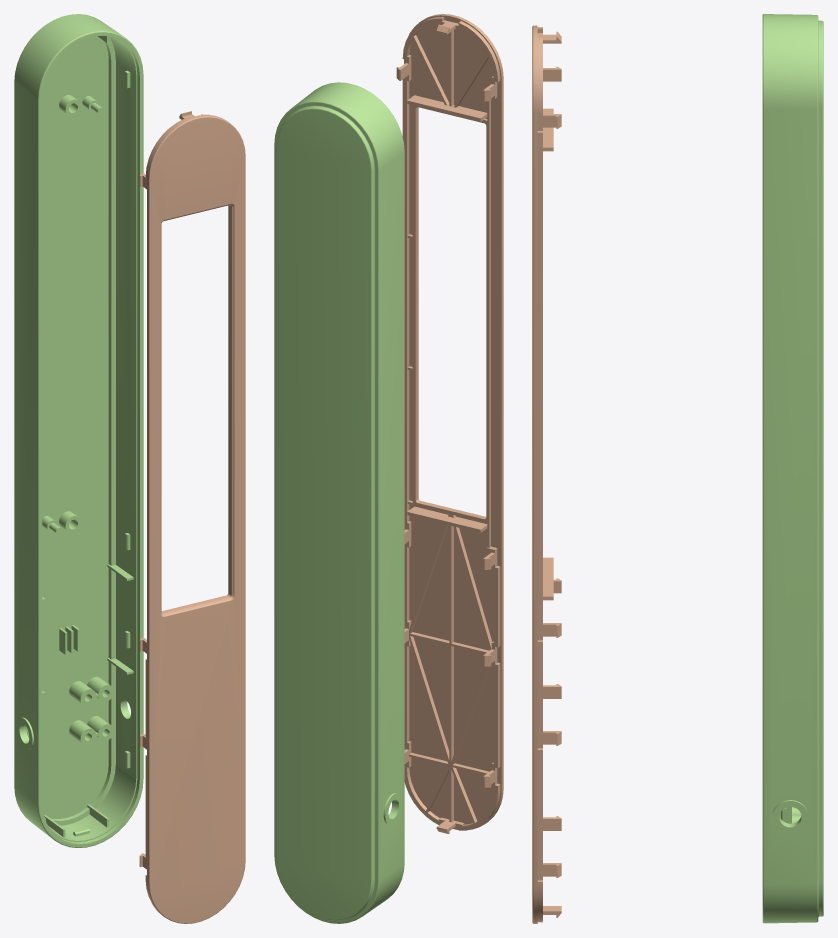
3 renders of one model, left to right at view 1: azimuth 30°, elevation 25°; view 2: azimuth 150°, elevation 25°; view 3: azimuth 270°, elevation 25°, orthographic. The views are drawn at different scales.
Visible parts, largest first — view 1: _____________DENG_TI_HOU_GAI_1, _____________DENT_TI_QIAN_GAI_1; view 2: _____________DENG_TI_HOU_GAI_1, _____________DENT_TI_QIAN_GAI_1; view 3: _____________DENG_TI_HOU_GAI_1, _____________DENT_TI_QIAN_GAI_1.
Boxes of the visible parts, <box> form: _____________DENG_TI_HOU_GAI_1: <box>14,14,143,847</box>; _____________DENT_TI_QIAN_GAI_1: <box>139,111,245,923</box>; _____________DENG_TI_HOU_GAI_1: <box>274,82,404,923</box>; _____________DENT_TI_QIAN_GAI_1: <box>396,14,503,833</box>; _____________DENG_TI_HOU_GAI_1: <box>762,14,823,923</box>; _____________DENT_TI_QIAN_GAI_1: <box>532,25,561,923</box>.
Bounding box in the file's own units: 52.2 × 373 × 110.
